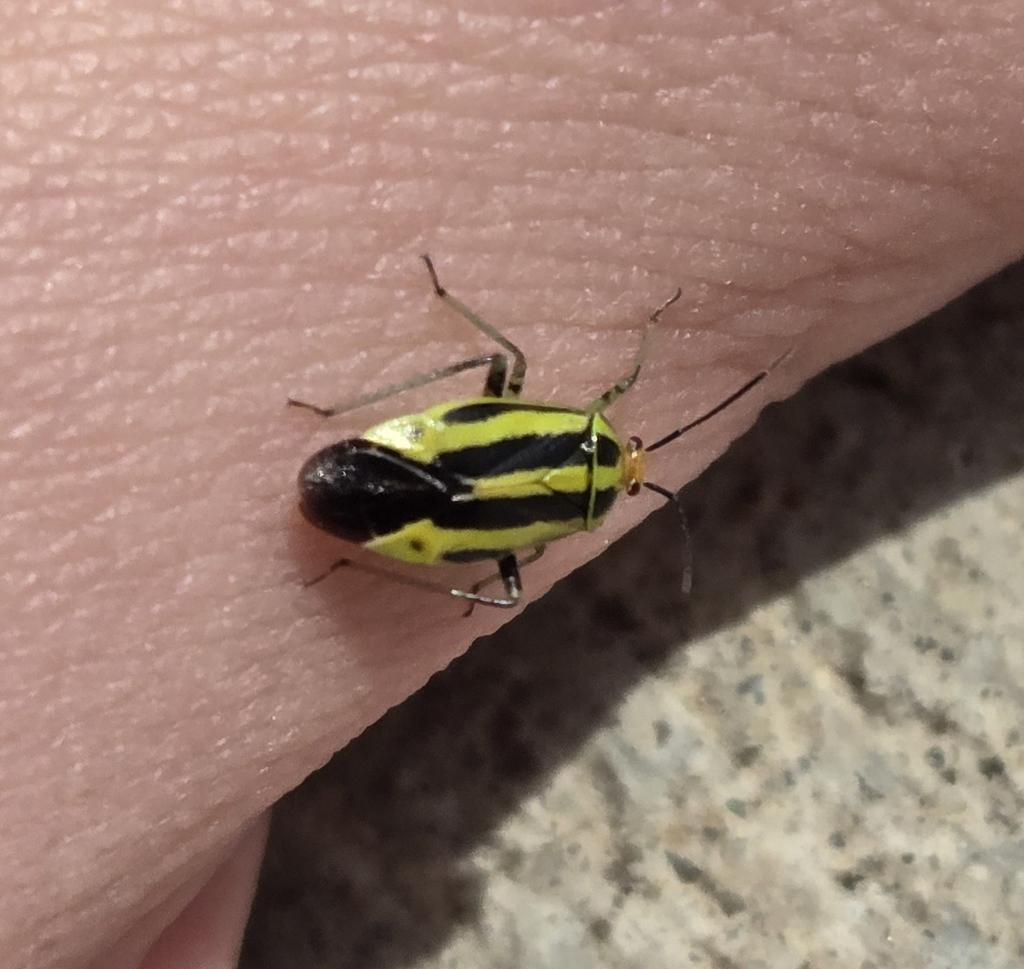plant_bugs: (220, 223, 829, 677)
